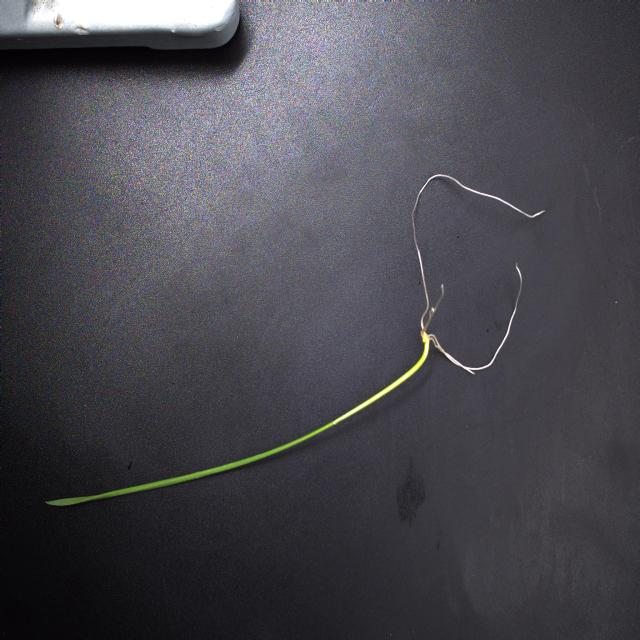leaf: (45, 423, 333, 506)
root: (409, 173, 548, 377)
stem: (330, 336, 429, 425)
